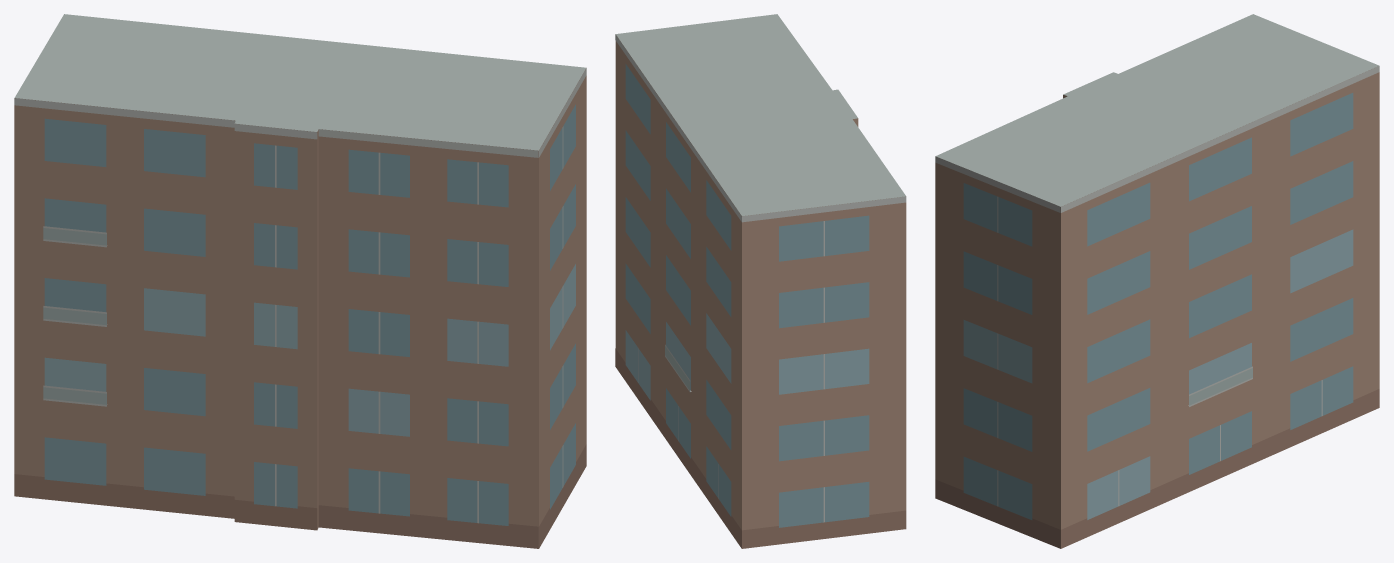
Rendered from survey-upis-32652794.glb.
3 views of the same model, side by side, from view 1: azimuth 30°, elevation 25°; view 2: azimuth 150°, elevation 25°; view 3: azimuth 270°, elevation 25° (orthographic). The views are drawn at different scales.
Visible parts, largest first — view 1: survey-upis-32652794.tmp; view 2: survey-upis-32652794.tmp; view 3: survey-upis-32652794.tmp.
Boxes of the visible parts, <box> form: survey-upis-32652794.tmp: <box>14,14,586,548</box>; survey-upis-32652794.tmp: <box>615,14,906,548</box>; survey-upis-32652794.tmp: <box>935,14,1379,548</box>.
Size of the model in its own units: 15.9 by 13.15 by 15.48.
